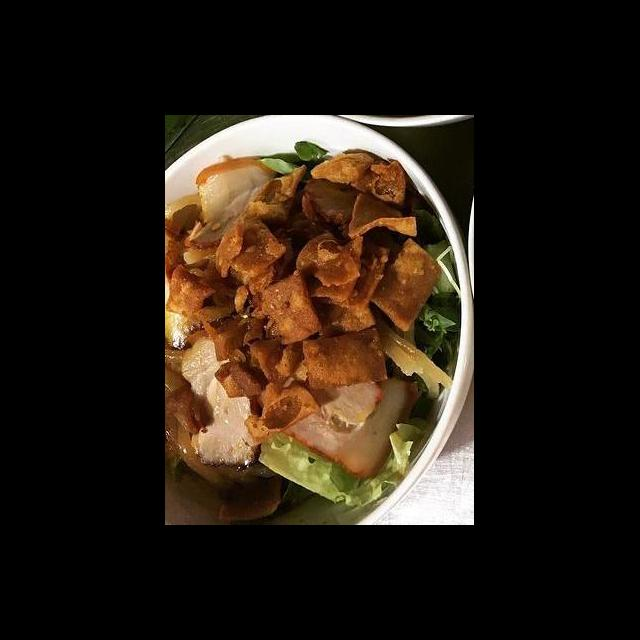banh da: (306, 228, 394, 335), (366, 235, 442, 333), (301, 317, 394, 394), (212, 210, 290, 286), (240, 374, 320, 448), (306, 149, 408, 207), (238, 312, 310, 391), (258, 267, 326, 349), (237, 159, 310, 226), (290, 227, 362, 289), (346, 188, 420, 246), (167, 264, 224, 324)
mi: (370, 312, 458, 404)
mi quang: (167, 134, 474, 508)
thit heo: (274, 351, 422, 481), (178, 332, 264, 473), (180, 152, 284, 254), (296, 174, 366, 241)
